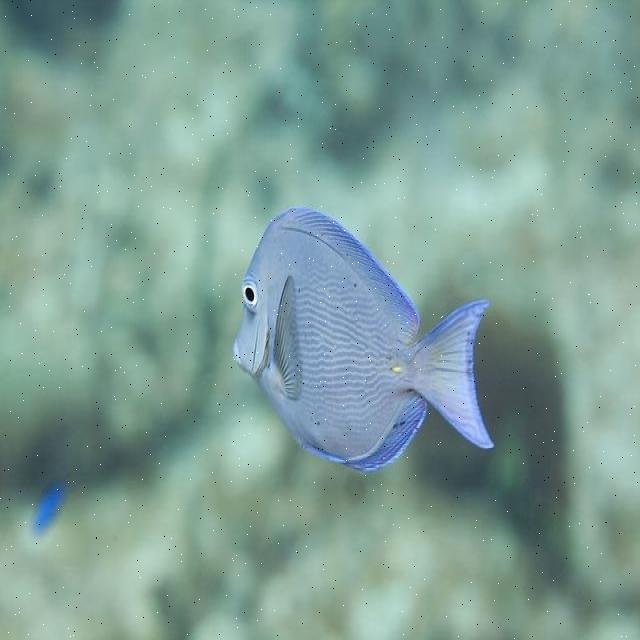fish: (233, 207, 496, 470), (31, 476, 70, 536)
